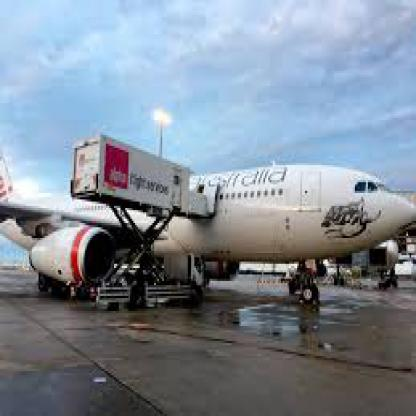Catering truck: (67, 132, 225, 309)
